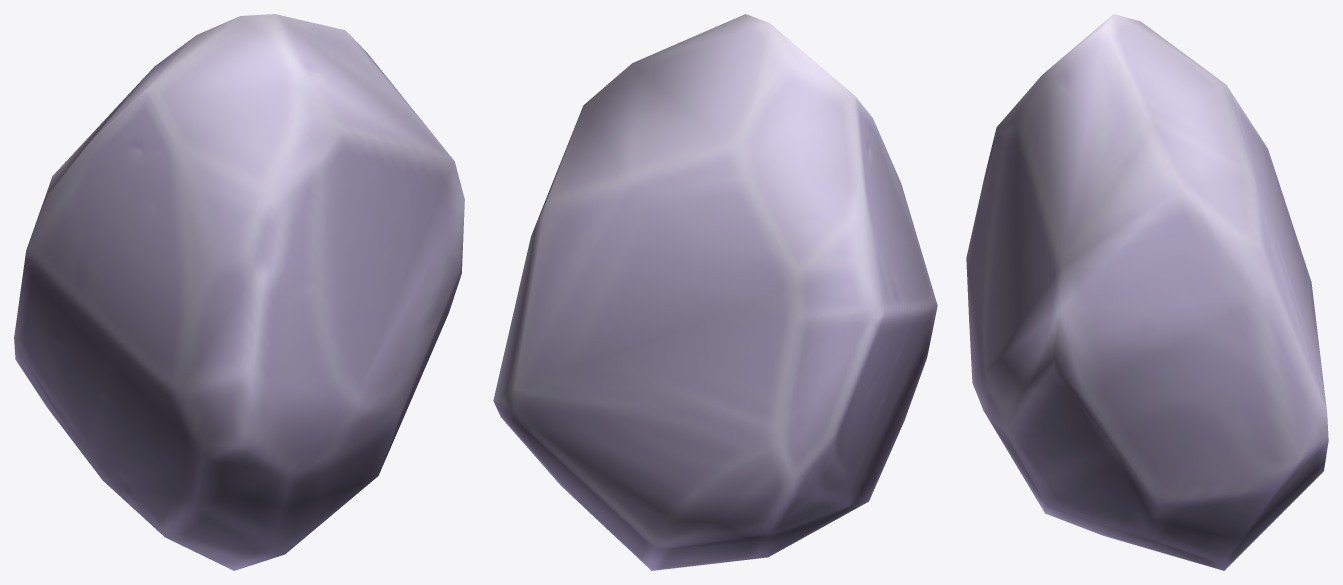
File: SM_Gem_Diamond_006.fbx
3 renders of one model, left to right at view 1: azimuth 30°, elevation 25°; view 2: azimuth 150°, elevation 25°; view 3: azimuth 270°, elevation 25°, orthographic. The views are drawn at different scales.
Visible parts, largest first — view 1: SM_Gem_Diamond_006; view 2: SM_Gem_Diamond_006; view 3: SM_Gem_Diamond_006.
Part boxes in pixels (left/top/right/bottom): SM_Gem_Diamond_006: left=14, top=14, right=464, bottom=570; SM_Gem_Diamond_006: left=493, top=14, right=937, bottom=570; SM_Gem_Diamond_006: left=966, top=14, right=1328, bottom=570.
Size of the model in its own units: 13.28 by 18.62 by 11.6.
